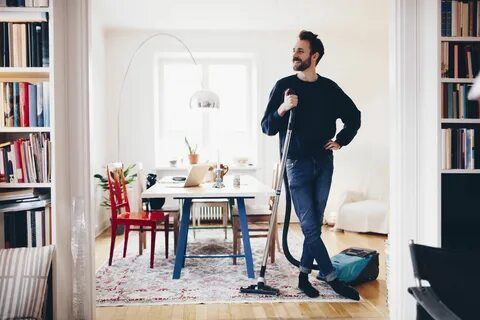awake: (260, 29, 361, 300)
